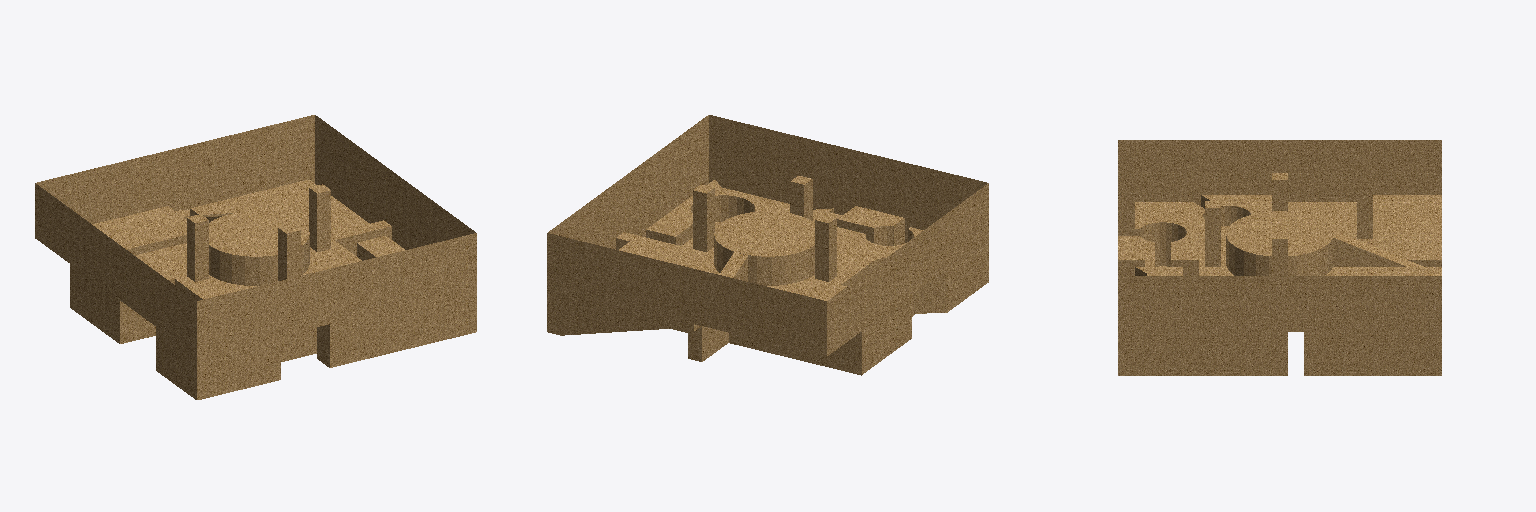
The picture shows the model from 3 angles: view 1: azimuth 30°, elevation 25°; view 2: azimuth 150°, elevation 25°; view 3: azimuth 270°, elevation 25°; orthographic projection.
Visible parts, largest first — view 1: Level0-SKP-Default_Material; view 2: Level0-SKP-Default_Material; view 3: Level0-SKP-Default_Material, Level0-SKP-Groundcover_Sand_Smooth.
Boxes of the visible parts, <box> form: Level0-SKP-Default_Material: <box>35,115,476,399</box>; Level0-SKP-Default_Material: <box>547,115,988,375</box>; Level0-SKP-Default_Material: <box>1118,140,1441,375</box>; Level0-SKP-Groundcover_Sand_Smooth: <box>1333,238,1405,266</box>.
Size of the model in its own units: 19.98 by 7 by 19.98.
2 materials, 1 textured.